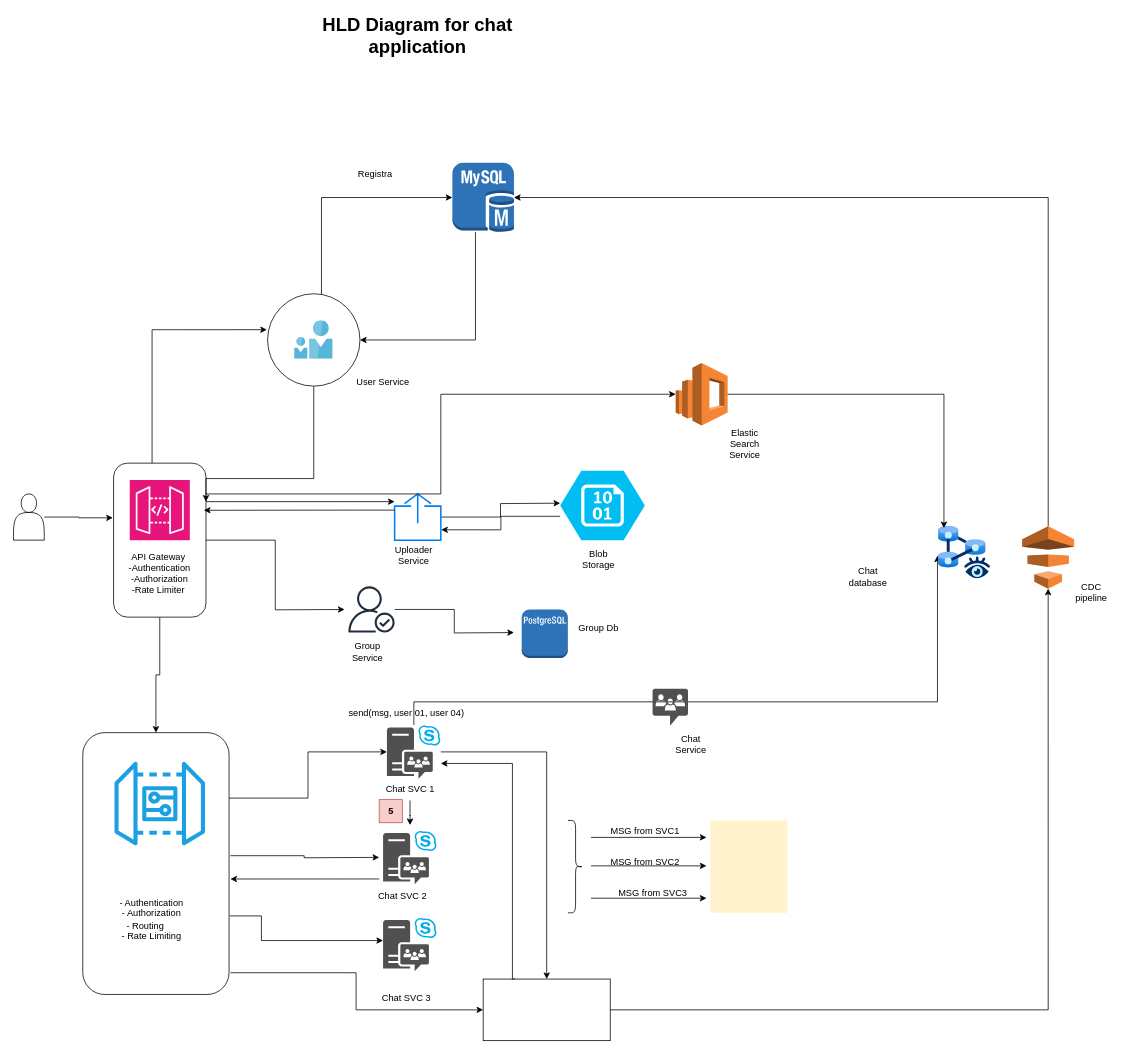
Some shapes in this 1128 by 1054 pixel diagram are drawn without their labels. Each missing label, with the centre of its shape:
REDIS Streaming / KAFKA Streaming: point 748,866
Service Registory: point 546,1009
